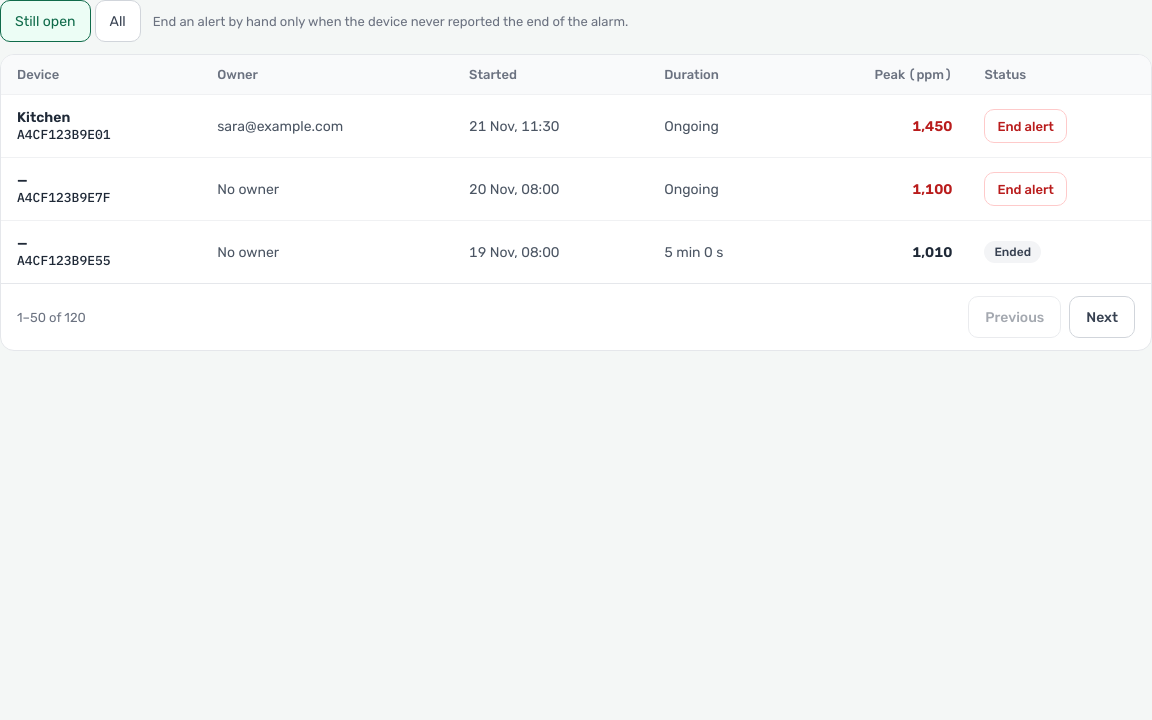
Test: AdminAlerts › All asks for every alert from page 1 and drops an open question
What coordinates should you click on to do the following:
click the button "Next"
I would click on:
 (1102, 317)
Its box is [1069, 296, 1135, 338].
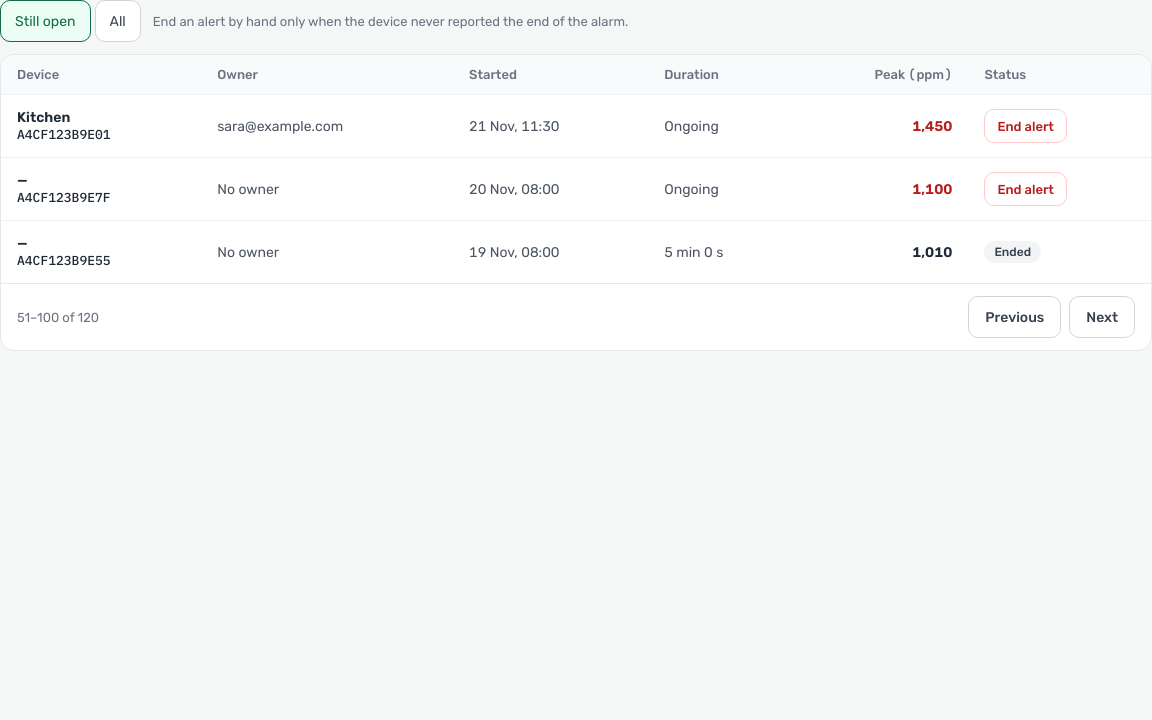
What coordinates should you click on to do the following:
click the button "End alert" in the row of "Kitchen"
I would click on:
 (1026, 126)
Its box is [984, 109, 1067, 143].
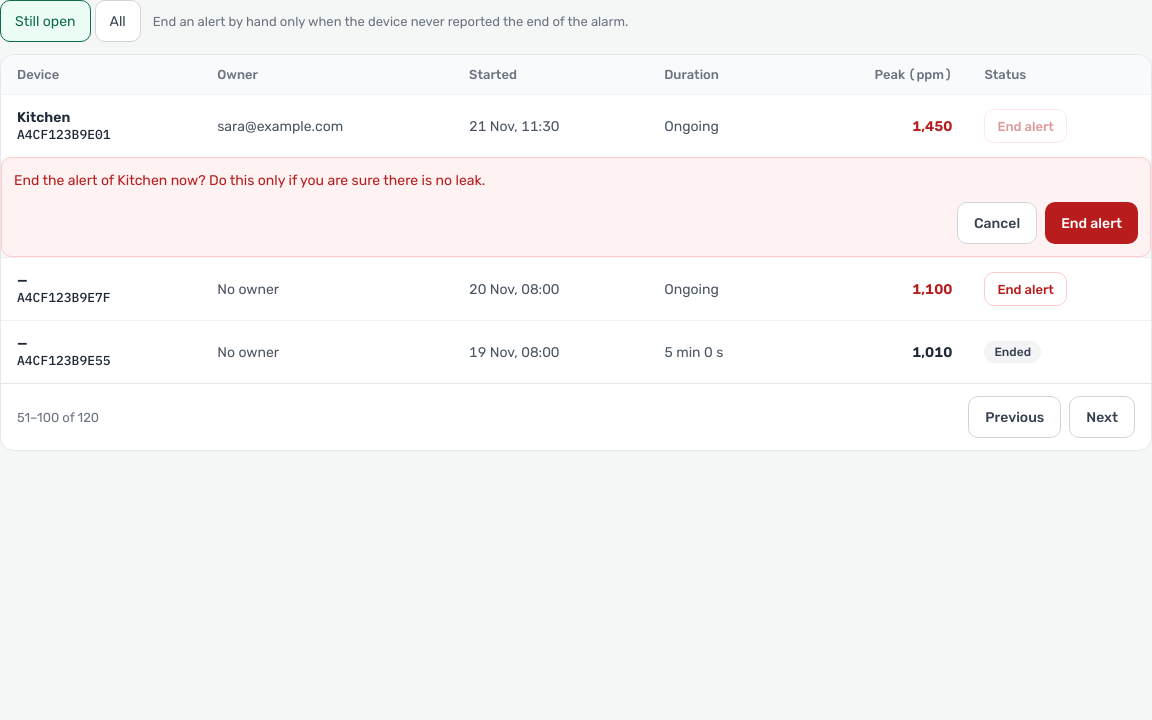
Now the dialog is shown, box [1, 157, 1151, 257]
What coordinates should you click on to do the following:
click the button "All"
I would click on:
 (118, 21)
Its box is [94, 0, 141, 42].
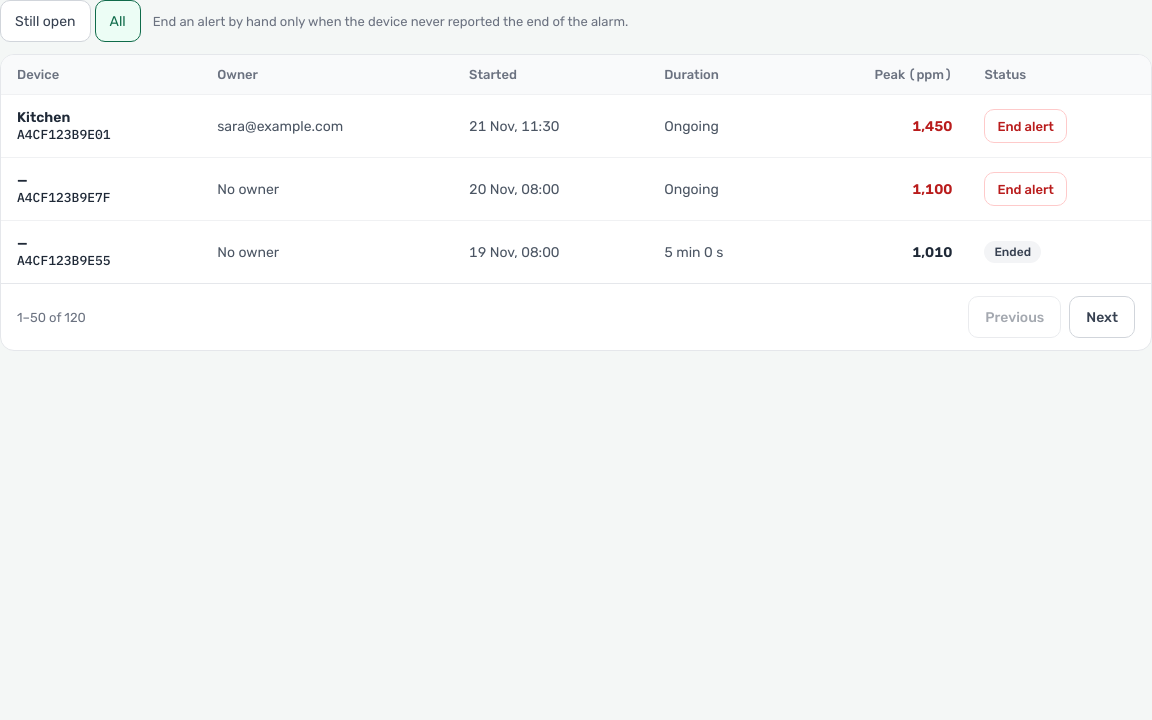
Now the dialog is gone
